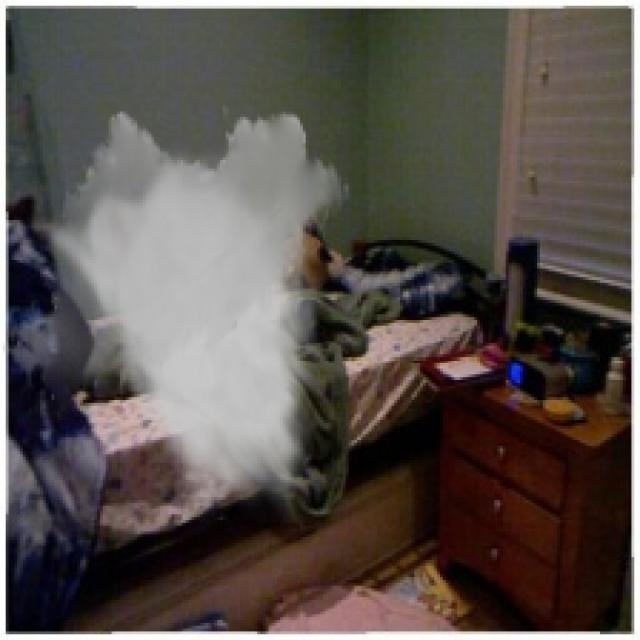Smoke: (0, 100, 352, 524)
